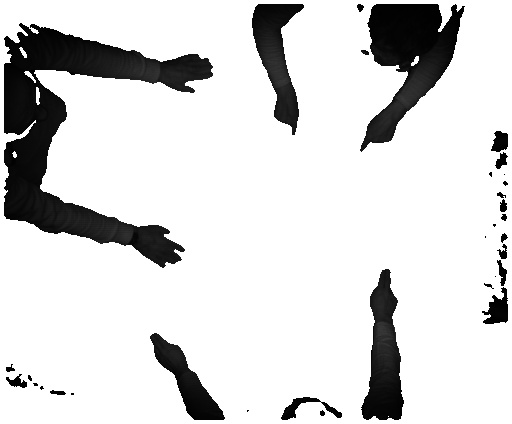hand: (136, 224, 191, 271), (166, 48, 215, 95), (144, 328, 187, 376), (368, 264, 399, 321), (360, 114, 398, 151), (274, 97, 303, 135)
